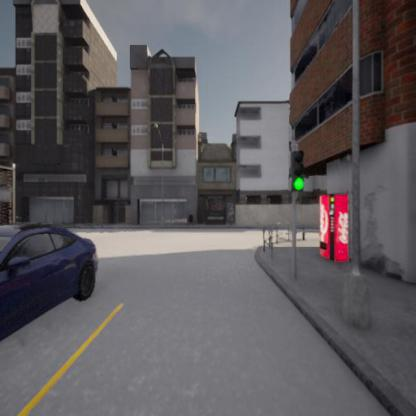traffic_light_green: (290, 150, 305, 189)
vehicle: (0, 224, 98, 372)
